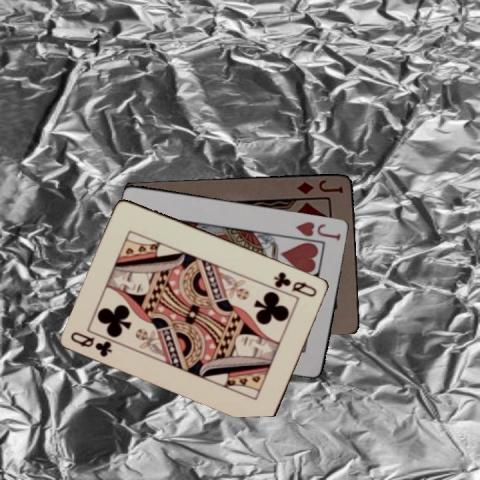Jd: (294, 177, 345, 195)
Jh: (292, 218, 343, 242)
Qc: (270, 268, 318, 299), (68, 328, 114, 359)
